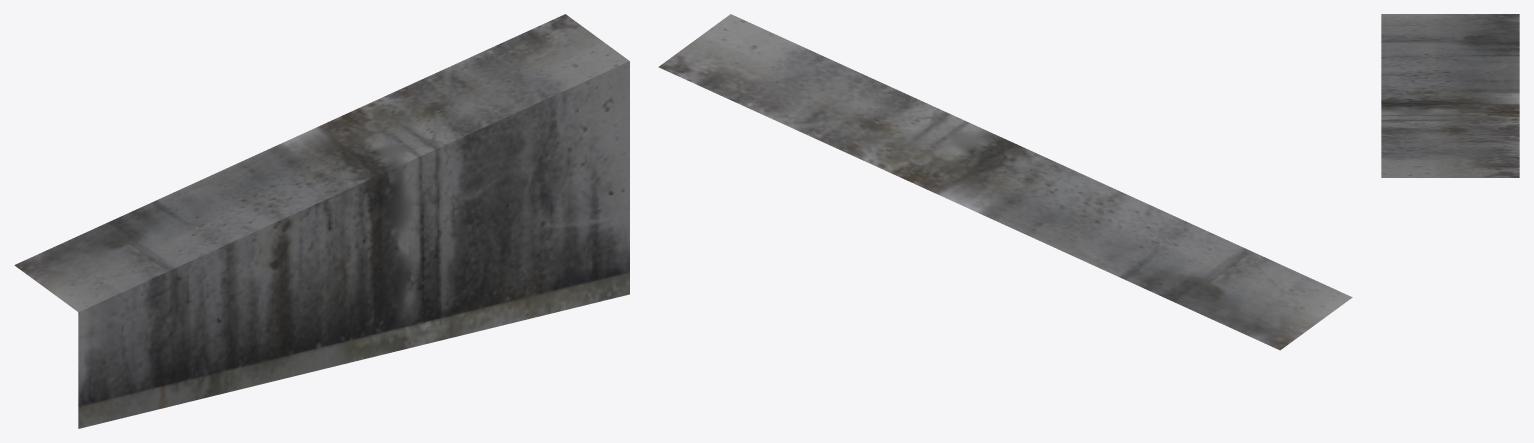
File: tunel_lodni_zed_1_z.glb
3 views of the same model, side by side, from view 1: azimuth 30°, elevation 25°; view 2: azimuth 150°, elevation 25°; view 3: azimuth 270°, elevation 25° (orthographic). The views are drawn at different scales.
Parts seen in each view (by area): view 1: tunel_lodni_zed_1_z; view 2: tunel_lodni_zed_1_z; view 3: tunel_lodni_zed_1_z.
Boxes of the visible parts, bbox=[...] form: tunel_lodni_zed_1_z: bbox=[14, 14, 629, 428]; tunel_lodni_zed_1_z: bbox=[658, 14, 1352, 350]; tunel_lodni_zed_1_z: bbox=[1381, 14, 1519, 177].
Size of the model in its own units: 4.95 by 2 by 1.
Materials: 1 (1 with a texture image).
